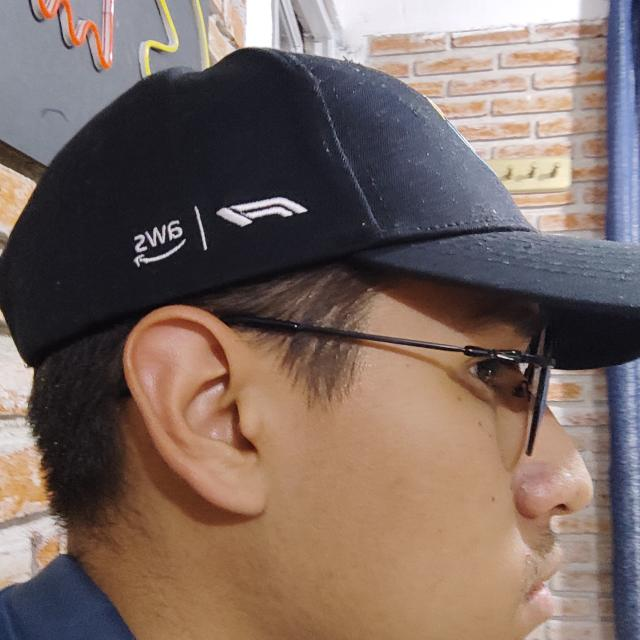ear: (124, 305, 266, 516)
